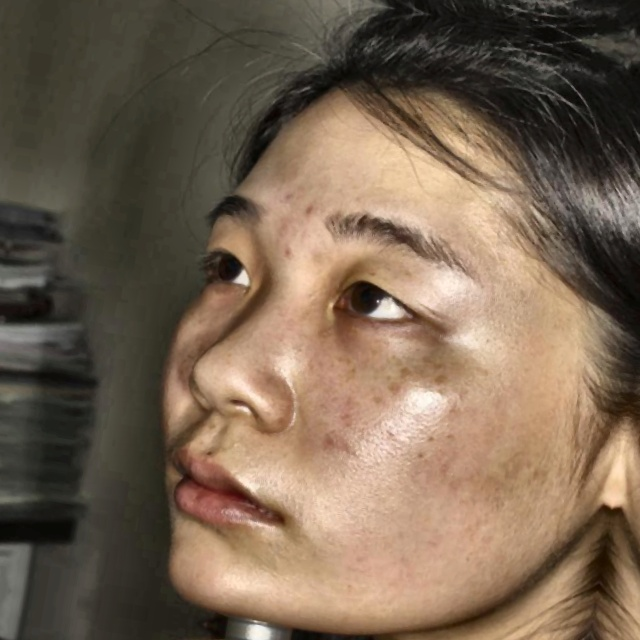comedone: (270, 244, 297, 261), (302, 201, 317, 223)
